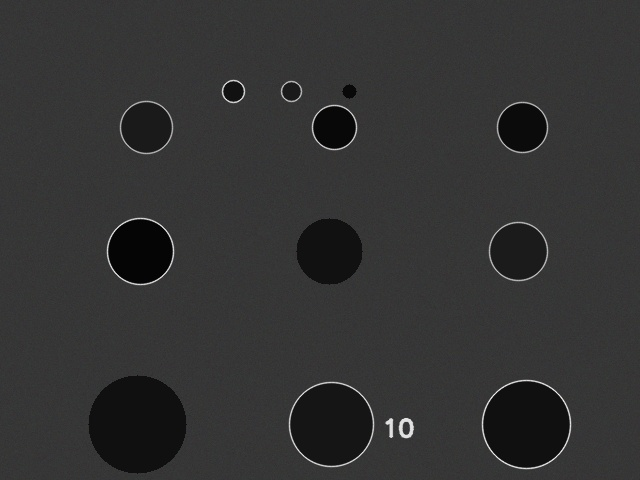hole: (88, 375, 186, 473), (482, 380, 570, 468), (289, 382, 373, 466), (107, 218, 173, 284), (296, 218, 362, 284), (489, 222, 547, 280), (120, 101, 172, 153), (497, 102, 547, 152), (312, 105, 356, 149), (222, 80, 244, 102), (281, 81, 301, 101), (342, 84, 356, 98)
